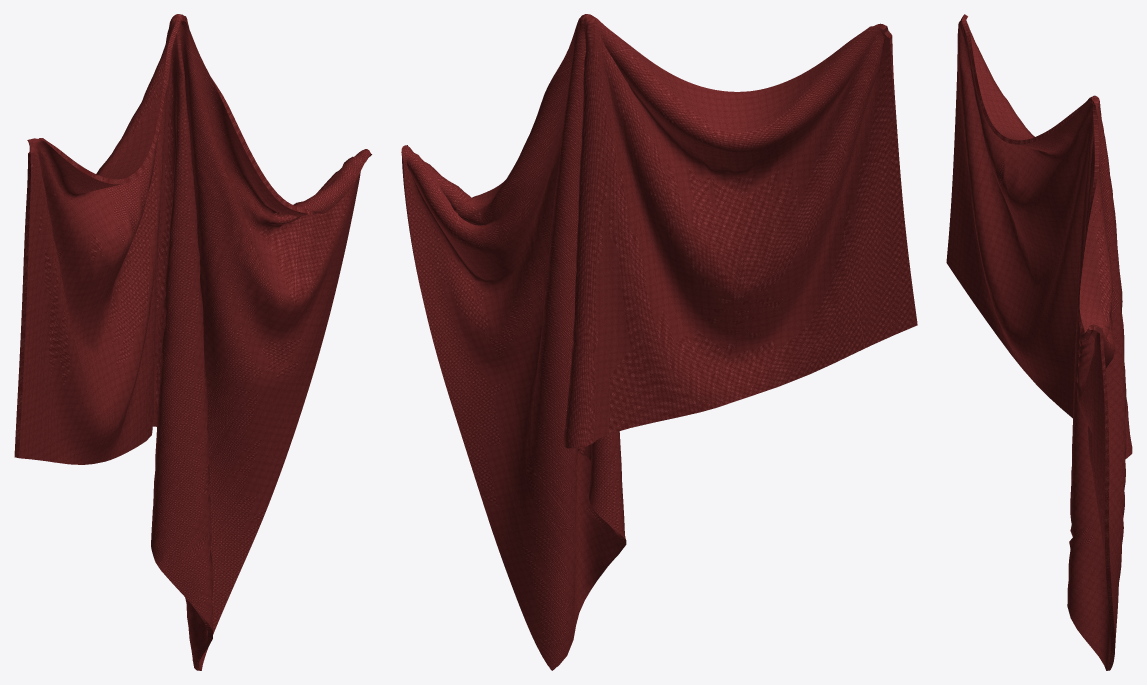
The model's file is EN_D_wallfabric1.fbx.
3 views of the same model, side by side, from view 1: azimuth 30°, elevation 25°; view 2: azimuth 150°, elevation 25°; view 3: azimuth 270°, elevation 25° (orthographic). The views are drawn at different scales.
Visible parts, largest first — view 1: EN_D_wallfabric1; view 2: EN_D_wallfabric1; view 3: EN_D_wallfabric1.
Part boxes in pixels (x1,y1,x2,y2): EN_D_wallfabric1: [14, 14, 371, 670]; EN_D_wallfabric1: [401, 14, 917, 670]; EN_D_wallfabric1: [946, 14, 1132, 670].
Bounding box in the file's own units: 173 × 250 × 75.
1 material, 1 textured.
